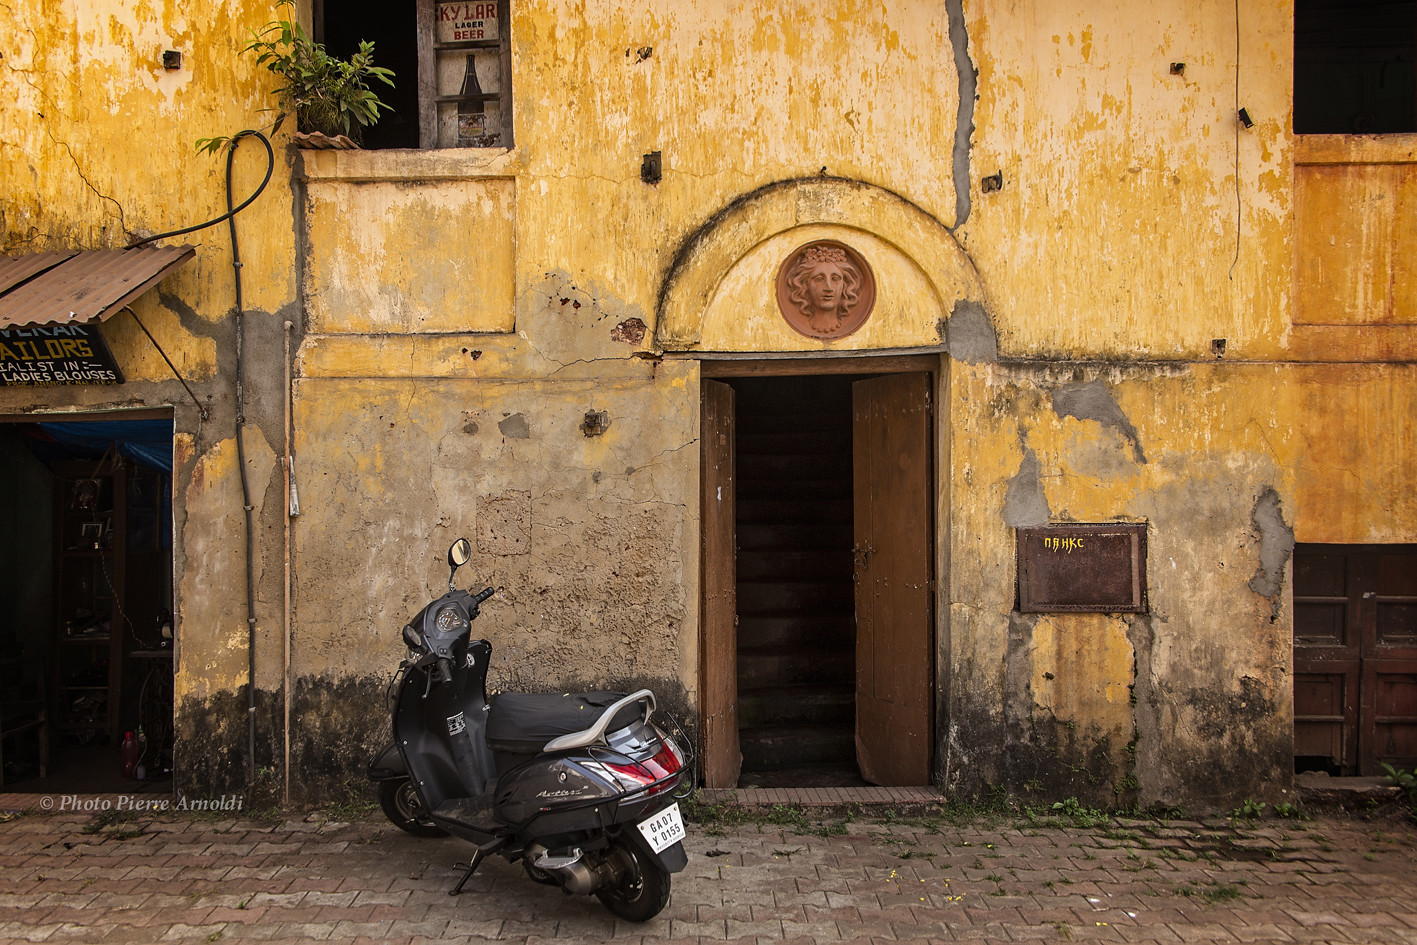motor bike: (368, 544, 706, 915)
